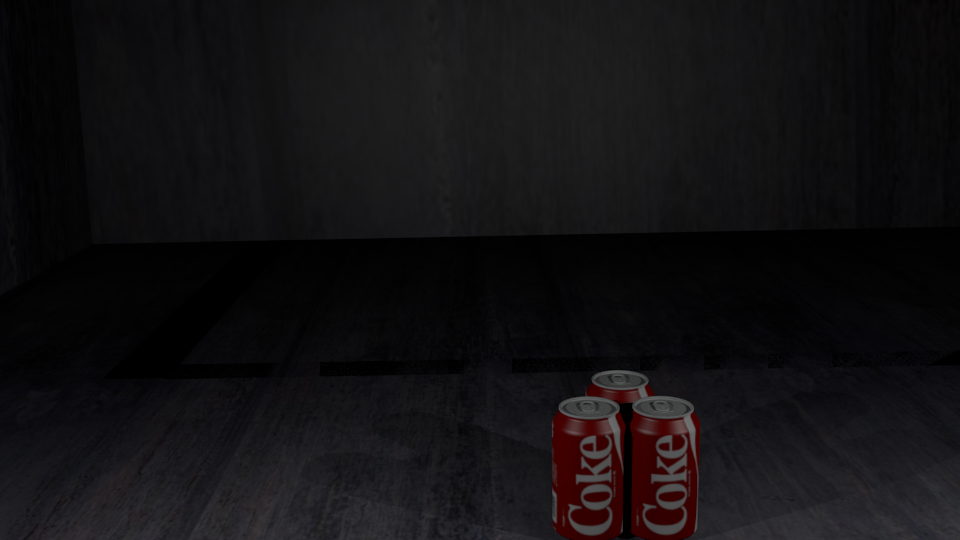cola_can: (625, 396, 699, 536), (552, 397, 625, 538), (586, 371, 653, 502)
